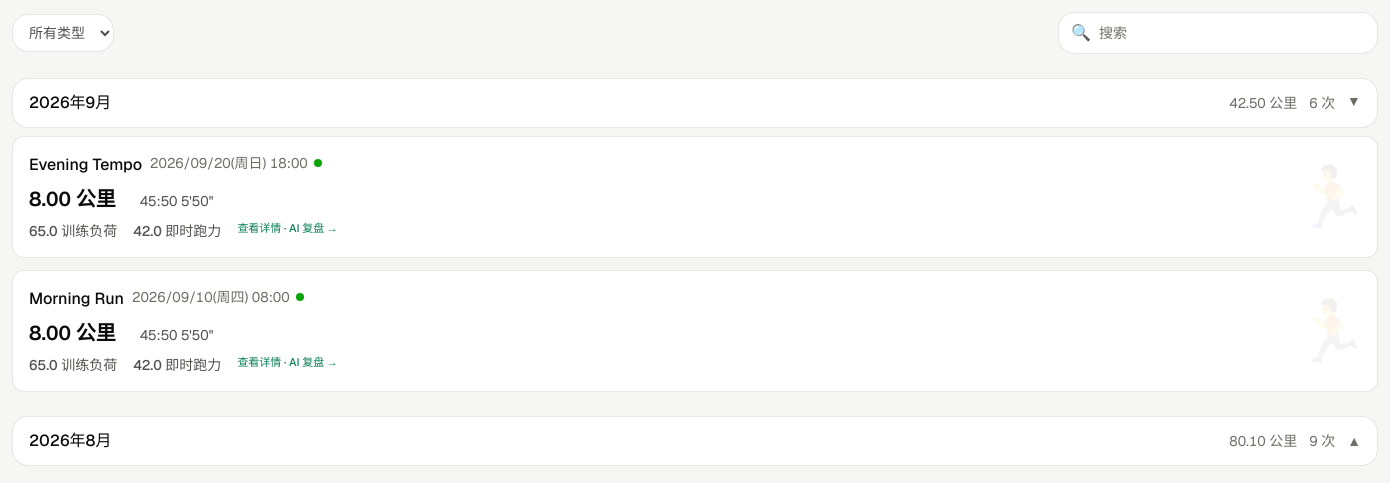
Test: ListClient 活动列表 (交互/筛选/无限滚动) › 搜索去空格大小写不敏感, 无过滤时排序不改写状态
This screenshot has width=1390, height=483.
Type "  tempo  " into the search field with placeholder "搜索". click: (1232, 33)
box: [1099, 23, 1365, 43]
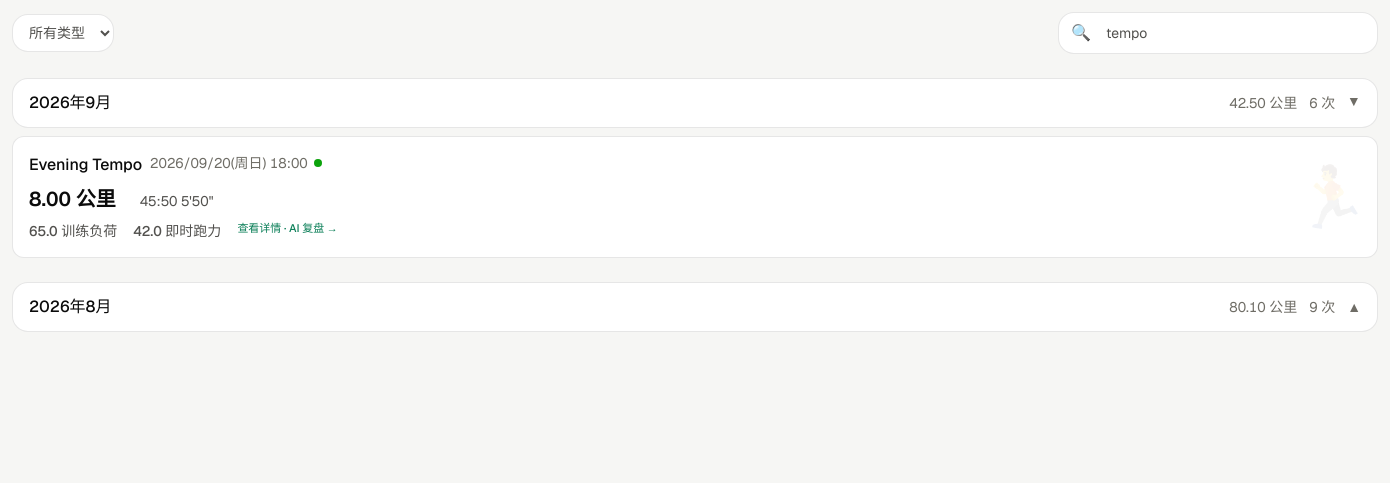
Expected: the button "Evening Tempo" is shown, [12, 136, 1378, 258]
Expected: the button "Morning Run" is gone
